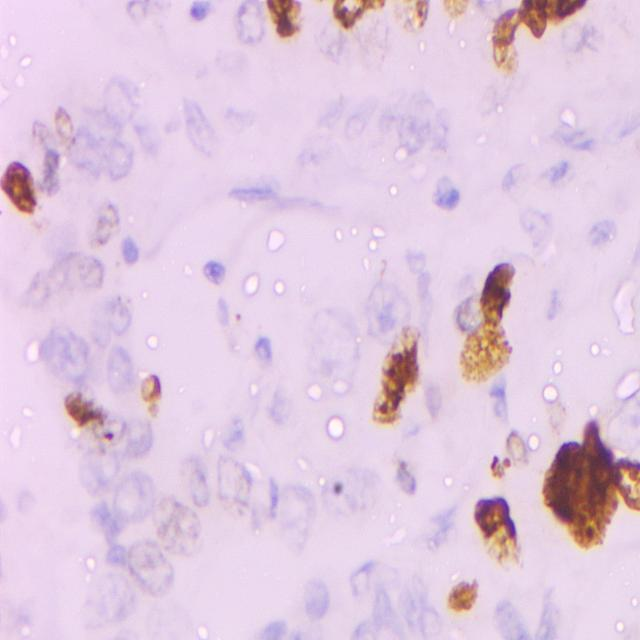Healthy cell: (304, 300, 362, 360), (37, 323, 93, 384), (395, 104, 447, 155), (307, 88, 338, 168), (519, 202, 562, 259), (92, 500, 128, 559), (178, 104, 220, 154), (102, 69, 137, 127), (403, 589, 447, 635), (76, 454, 119, 496), (370, 286, 412, 325), (104, 136, 140, 181), (273, 478, 308, 524), (120, 473, 154, 520), (372, 588, 404, 636), (489, 603, 530, 640), (103, 345, 139, 386), (426, 508, 457, 552), (300, 579, 335, 617), (132, 419, 164, 459), (103, 296, 134, 337), (259, 616, 304, 640), (430, 176, 462, 209), (236, 5, 264, 41), (269, 392, 296, 428), (349, 109, 377, 143), (500, 162, 527, 196), (256, 333, 280, 368), (223, 419, 249, 451), (223, 105, 253, 132), (115, 237, 144, 264), (406, 243, 428, 276), (589, 219, 616, 245), (203, 258, 227, 284), (183, 1, 212, 22)
cancer-cell-QiJm: (538, 444, 618, 552), (379, 322, 421, 428), (582, 422, 617, 527), (478, 492, 524, 570), (50, 246, 114, 296), (462, 325, 514, 385), (152, 499, 204, 558), (350, 12, 394, 69), (0, 163, 41, 220), (483, 262, 518, 328), (177, 454, 213, 511), (66, 390, 118, 429), (126, 543, 172, 587), (212, 458, 256, 502), (330, 0, 390, 31), (510, 0, 552, 42), (32, 146, 64, 200), (392, 448, 424, 502), (17, 263, 48, 313), (69, 130, 100, 178), (389, 0, 434, 33), (315, 26, 349, 68), (446, 576, 481, 616), (453, 293, 486, 333), (267, 0, 298, 42), (90, 199, 118, 245), (617, 455, 640, 511), (563, 20, 601, 52), (493, 9, 522, 49), (543, 394, 573, 432), (139, 372, 163, 418), (26, 122, 59, 154), (219, 493, 253, 524), (50, 106, 74, 149), (123, 0, 163, 25), (550, 0, 584, 28), (490, 42, 520, 73), (94, 418, 122, 450), (488, 449, 516, 481), (427, 374, 447, 416), (503, 432, 529, 463), (438, 0, 470, 20), (369, 253, 389, 276), (228, 305, 248, 325), (330, 480, 348, 502)
